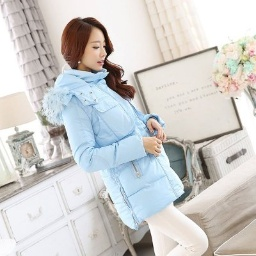face: (61, 14, 124, 81)
